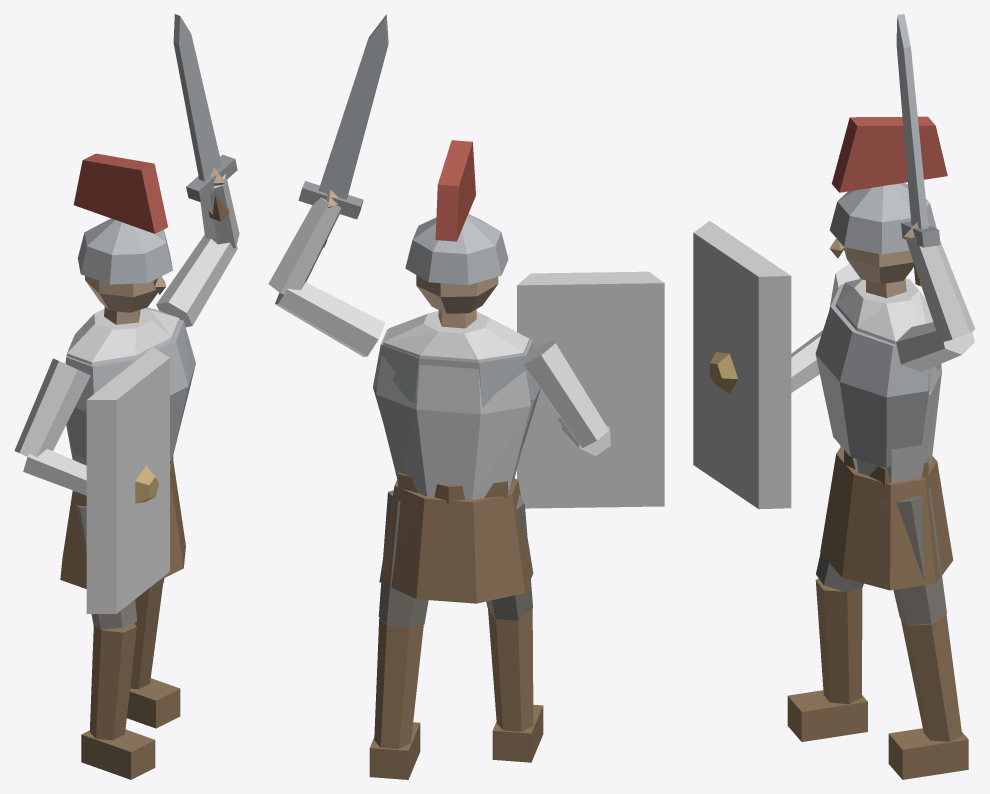
File: legion.glb
3 views of the same model, side by side, from view 1: azimuth 30°, elevation 25°; view 2: azimuth 150°, elevation 25°; view 3: azimuth 270°, elevation 25° (orthographic). The views are drawn at different scales.
Parts seen in each view (by area): view 1: LOD0; view 2: LOD0; view 3: LOD0.
Boxes of the visible parts, box(x1,y1,x2,y2) form: LOD0: box(14, 14, 239, 779); LOD0: box(268, 14, 664, 779); LOD0: box(693, 14, 975, 779).
Size of what is drawn, in the model's own units: 0.5318 by 1.31 by 0.44.
